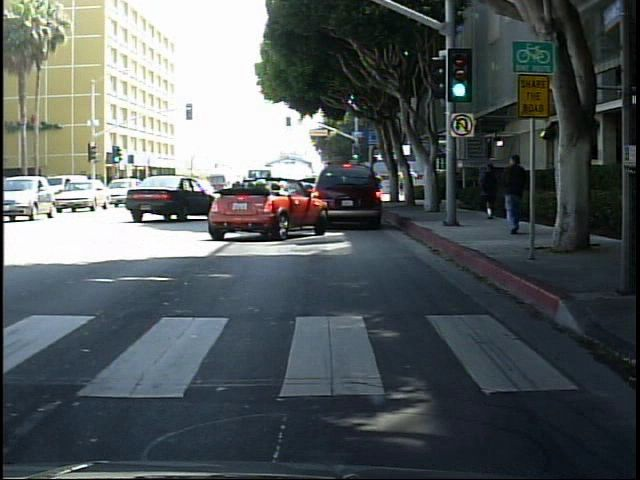person: (500, 146, 531, 237), (480, 157, 505, 221), (406, 164, 422, 201)
